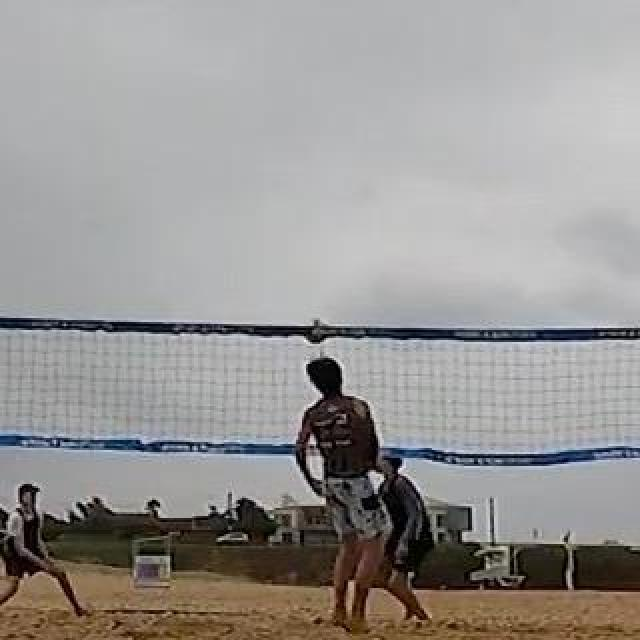volleyball: (308, 318, 328, 342)
